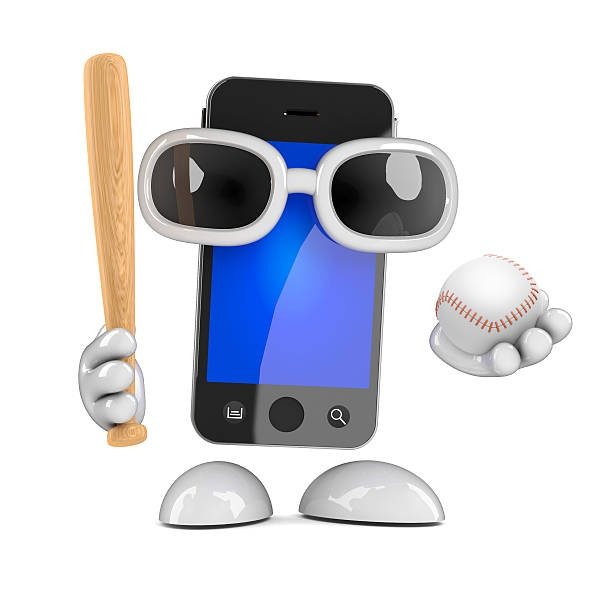bita: (75, 50, 149, 445)
